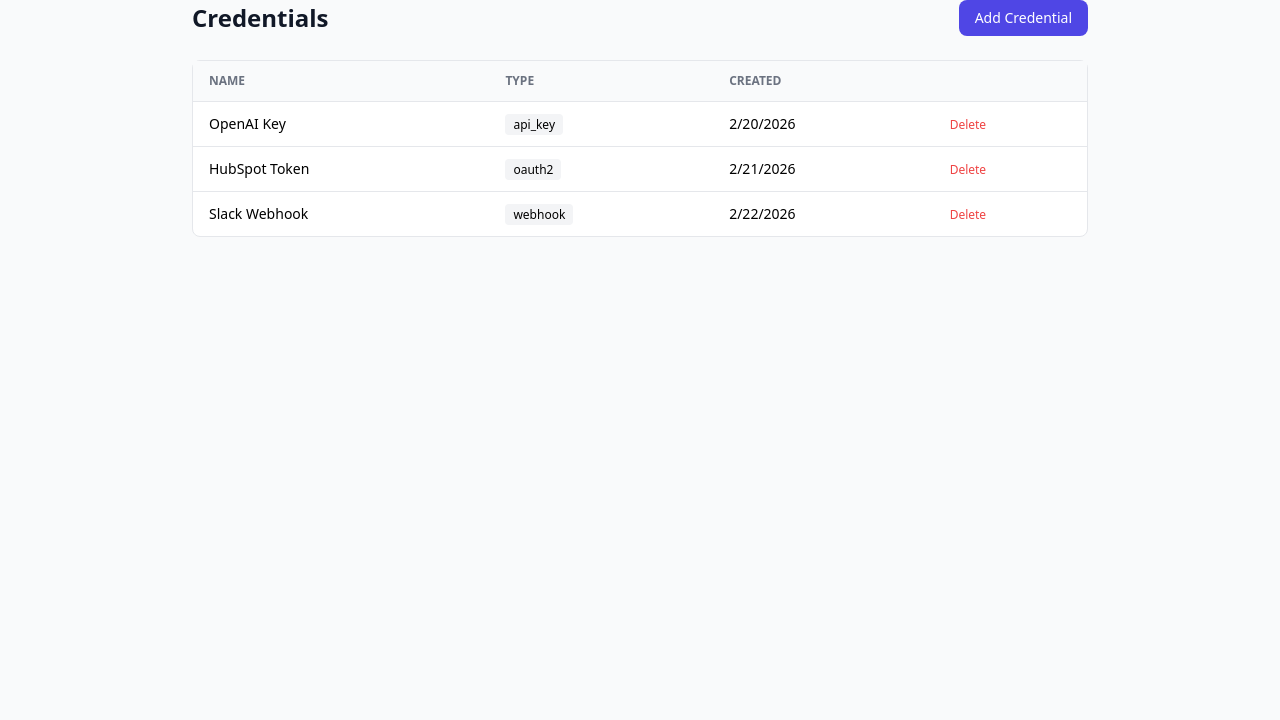
Scenario: CR2: Add Credential form › opens credential form modal on click
Click the button "Add Credential": coordinates (1023, 18) left=959, top=0, right=1088, bottom=36
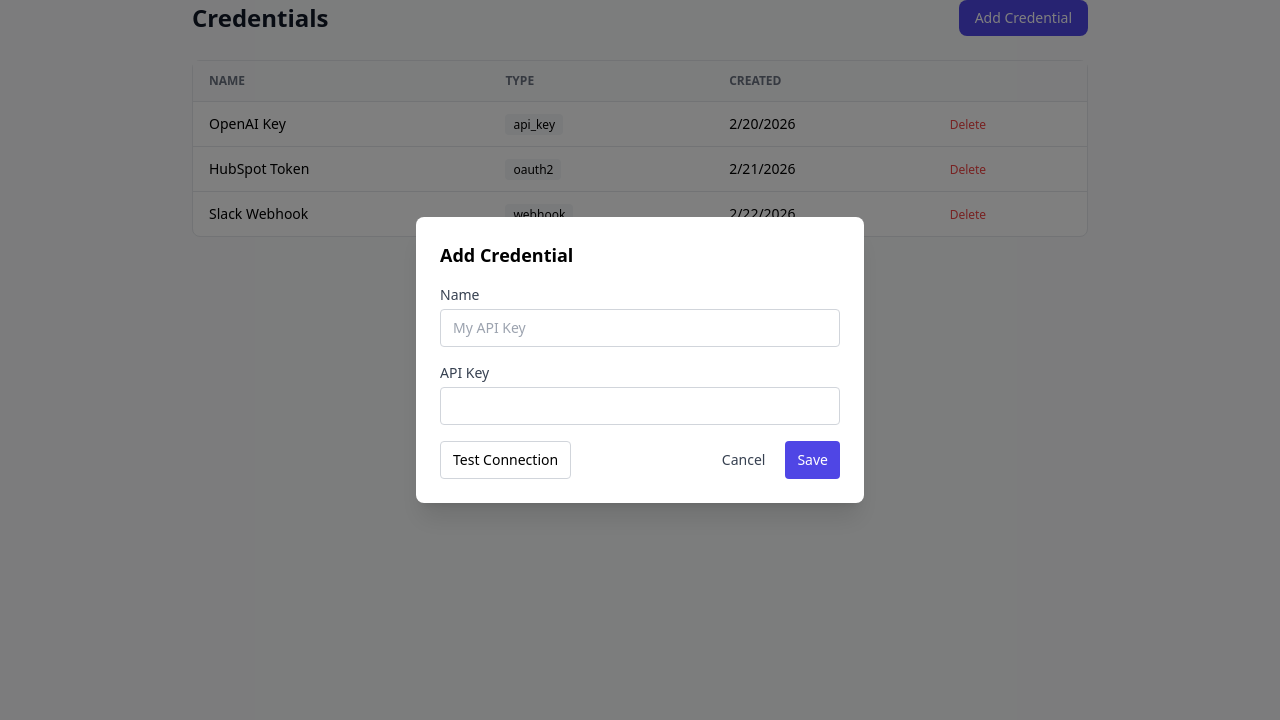
Expected: the field with placeholder "My API Key" is shown, left=440, top=309, right=840, bottom=347
Expected: the button "Save" is shown, left=785, top=441, right=840, bottom=479
